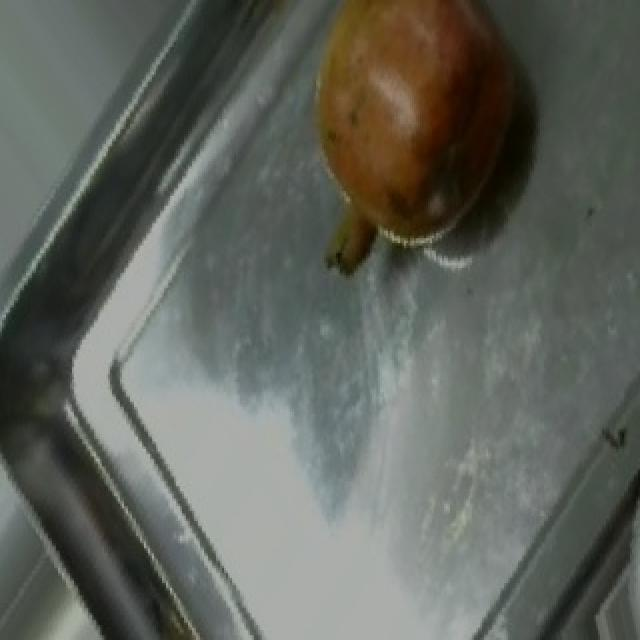fruit: (274, 3, 548, 253)
